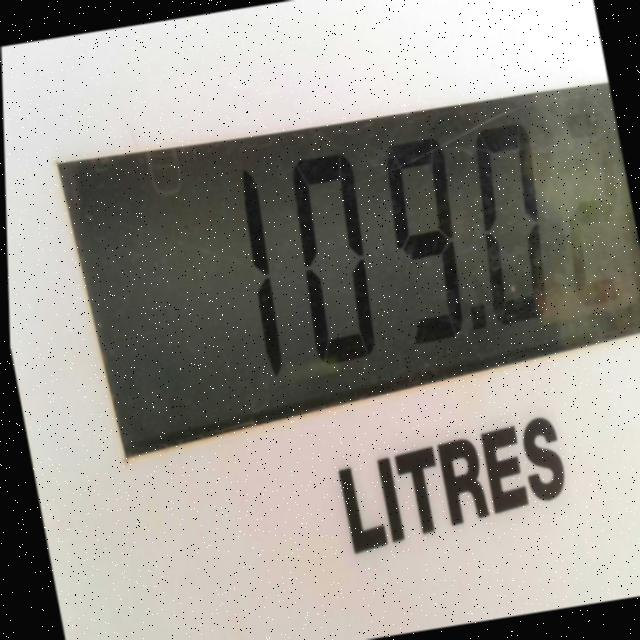.: (464, 295, 492, 341)
0: (459, 115, 570, 336), (283, 152, 388, 370)
1: (227, 153, 299, 382)
2: (543, 94, 640, 326)
9: (376, 139, 470, 343)
